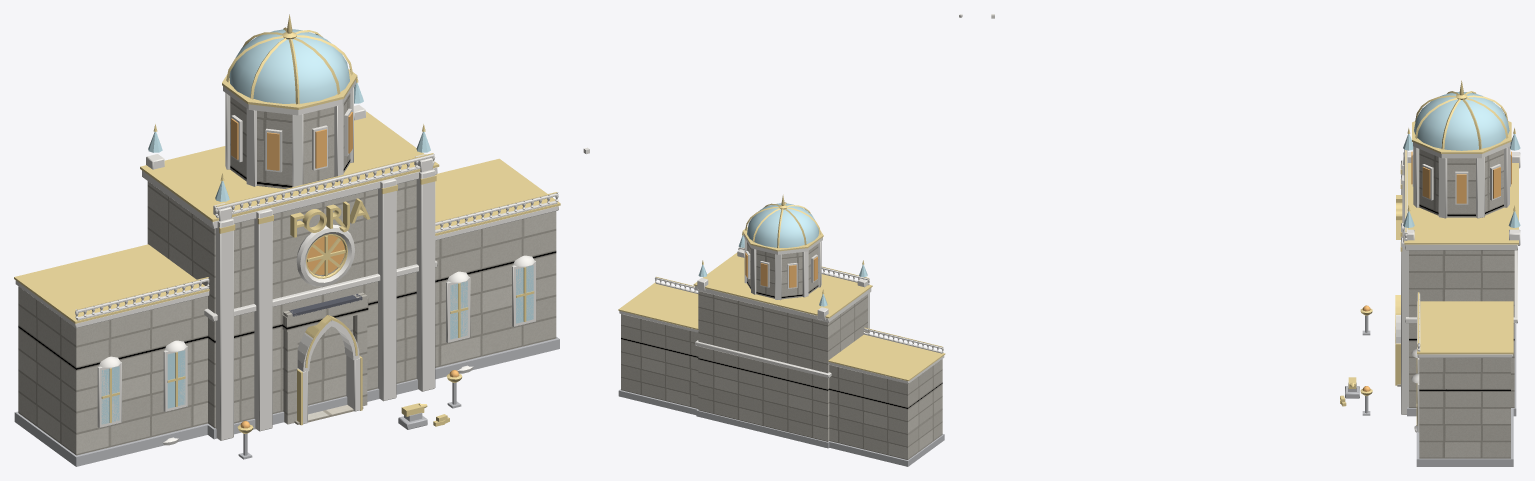
Rendered from LV_FORJA.fbx.
3 renders of one model, left to right at view 1: azimuth 30°, elevation 25°; view 2: azimuth 150°, elevation 25°; view 3: azimuth 270°, elevation 25°, orthographic. The views are drawn at different scales.
Parts seen in each view (by area): view 1: STONE__forja, MARB__forja, GOLD__forja, GLASS__forja, TRIM__forja, EMBER__forja; view 2: STONE__forja, GOLD__forja, MARB__forja, GLASS__forja, TRIM__forja, EMBER__forja; view 3: STONE__forja, GOLD__forja, MARB__forja, GLASS__forja, TRIM__forja, EMBER__forja.
Part boxes in pixels (x1=…): STONE__forja: x1=18, y1=93, x2=556, y2=455; MARB__forja: x1=15, y1=80, x2=558, y2=445; GOLD__forja: x1=14, y1=14, x2=560, y2=433; GLASS__forja: x1=101, y1=29, x2=533, y2=424; TRIM__forja: x1=14, y1=337, x2=559, y2=466; EMBER__forja: x1=231, y1=112, x2=459, y2=428; STONE__forja: x1=621, y1=242, x2=942, y2=459; GOLD__forja: x1=618, y1=194, x2=945, y2=381; MARB__forja: x1=619, y1=234, x2=944, y2=383; GLASS__forja: x1=698, y1=203, x2=867, y2=306; TRIM__forja: x1=618, y1=389, x2=944, y2=466; EMBER__forja: x1=745, y1=252, x2=817, y2=287; STONE__forja: x1=1409, y1=149, x2=1514, y2=458; GOLD__forja: x1=1340, y1=80, x2=1518, y2=425; MARB__forja: x1=1396, y1=142, x2=1520, y2=432; GLASS__forja: x1=1403, y1=92, x2=1520, y2=227; TRIM__forja: x1=1345, y1=315, x2=1516, y2=466; EMBER__forja: x1=1362, y1=151, x2=1511, y2=391.
Bounding box in the file's own units: 125 × 113 × 150.
11 materials, 2 textured.
